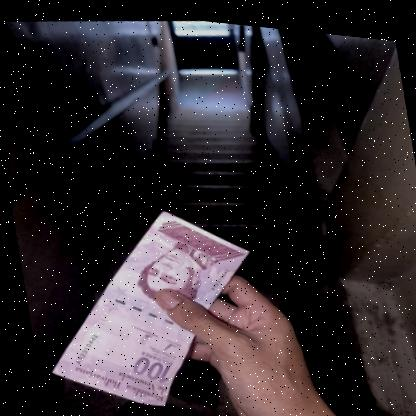one_hundred-front-vef: (21, 187, 271, 416)
